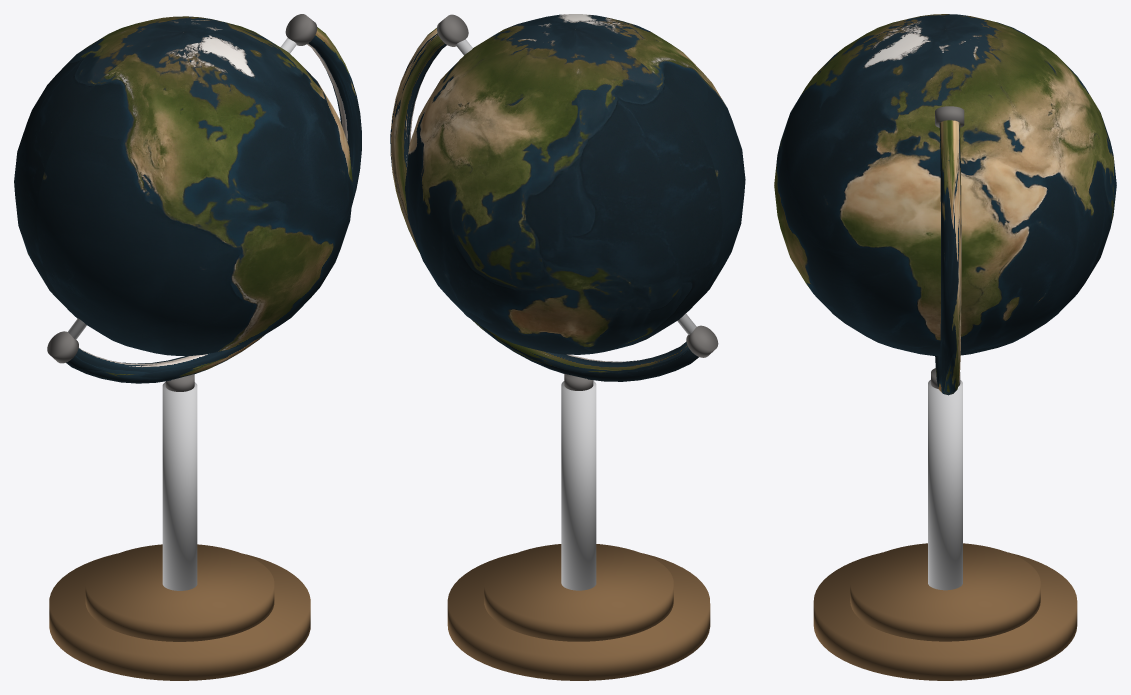
The model's file is worldGlobe.fbx.
3 views of the same model, side by side, from view 1: azimuth 30°, elevation 25°; view 2: azimuth 150°, elevation 25°; view 3: azimuth 270°, elevation 25° (orthographic).
Parts seen in each view (by area): view 1: Sphere; view 2: Sphere; view 3: Sphere.
Part boxes in pixels (x1,y1,x2,y2): Sphere: [14, 14, 361, 680]; Sphere: [390, 14, 745, 680]; Sphere: [774, 14, 1116, 680].
Size of the model in its own units: 25.99 by 44.99 by 23.4.
